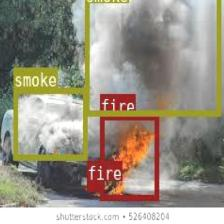fire: (100, 113, 158, 199), (86, 180, 100, 190)
smoke: (85, 0, 220, 115), (13, 87, 87, 159)
